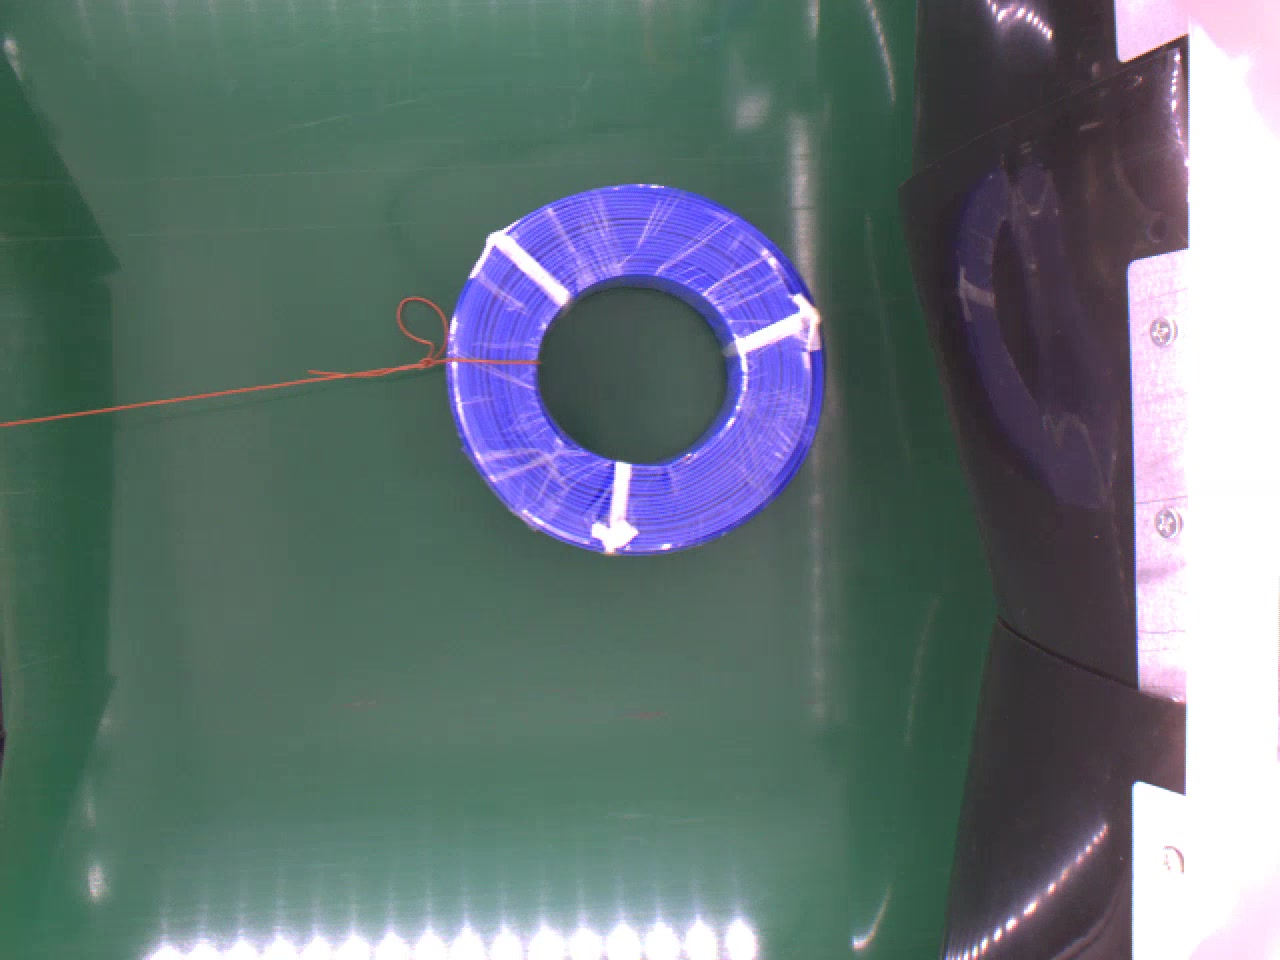blue: (444, 177, 827, 555)
